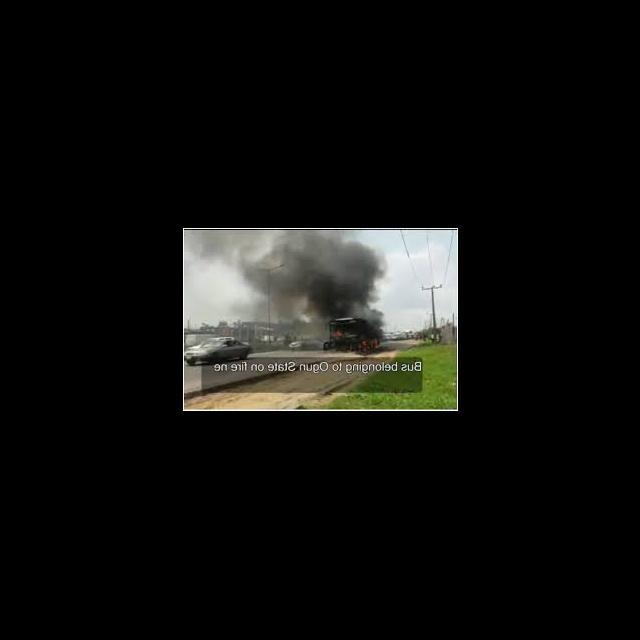Fire: (331, 330, 344, 339), (361, 340, 368, 353), (374, 340, 379, 350)
Smoke: (184, 231, 386, 339)
